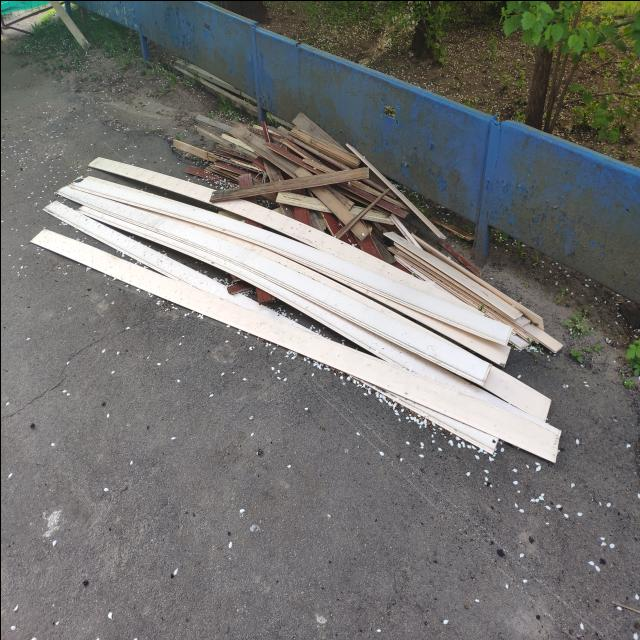restos de madeira: (96, 152, 510, 424), (404, 232, 552, 368), (428, 378, 556, 460), (54, 174, 219, 225), (42, 228, 164, 290), (288, 125, 358, 167), (218, 120, 287, 162), (173, 138, 250, 170), (245, 140, 302, 180), (399, 228, 452, 264), (194, 114, 252, 140), (342, 177, 398, 199), (274, 190, 334, 210), (356, 206, 398, 222)
